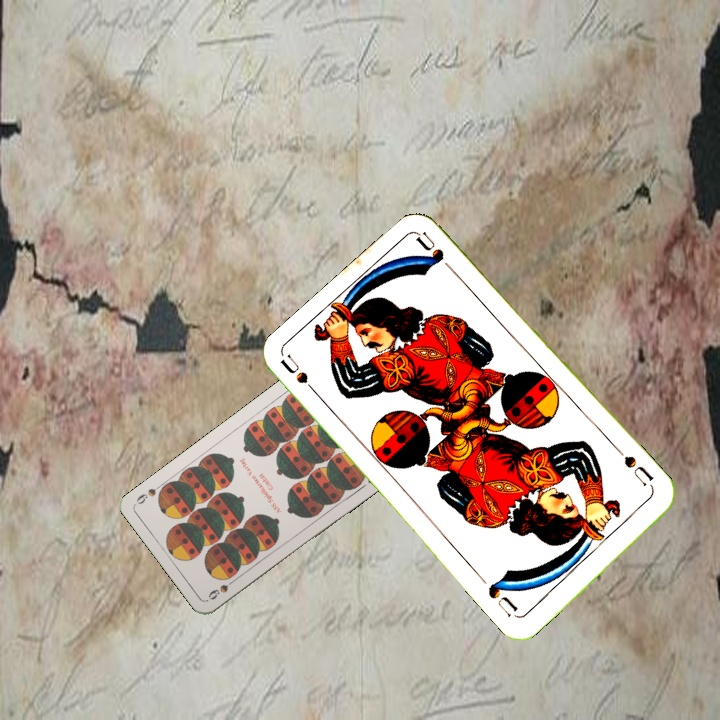S9: (204, 574, 240, 603)
SU: (277, 352, 325, 402), (620, 451, 658, 494)
